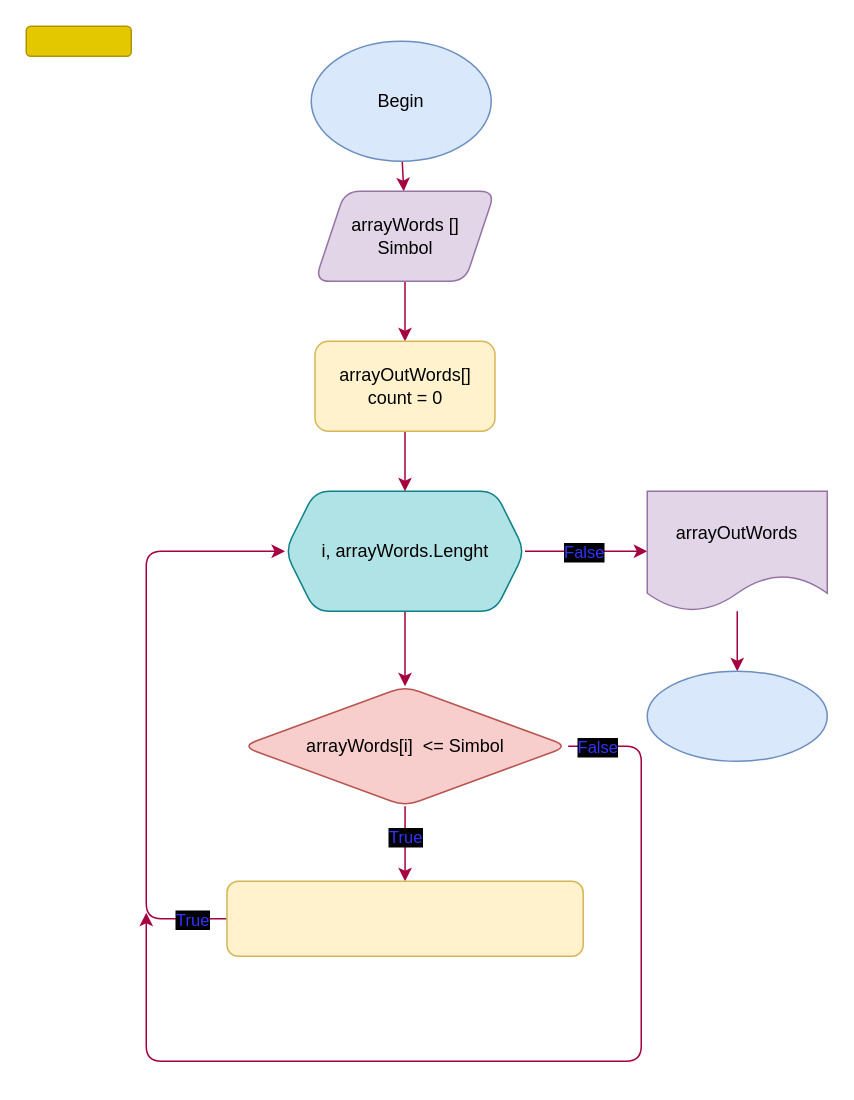
This 854x1100 diagram has some shape labels left out. The shapes that lost their labels are listed below. From the top down, each one's centre as x and y in pixels, then its label:
(78,40): SizeCheck
(736,715): End
(404,918): arrayOutWords = arrayWords[i] count +=1
